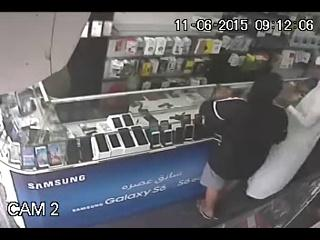Normal: (196, 70, 310, 222)
